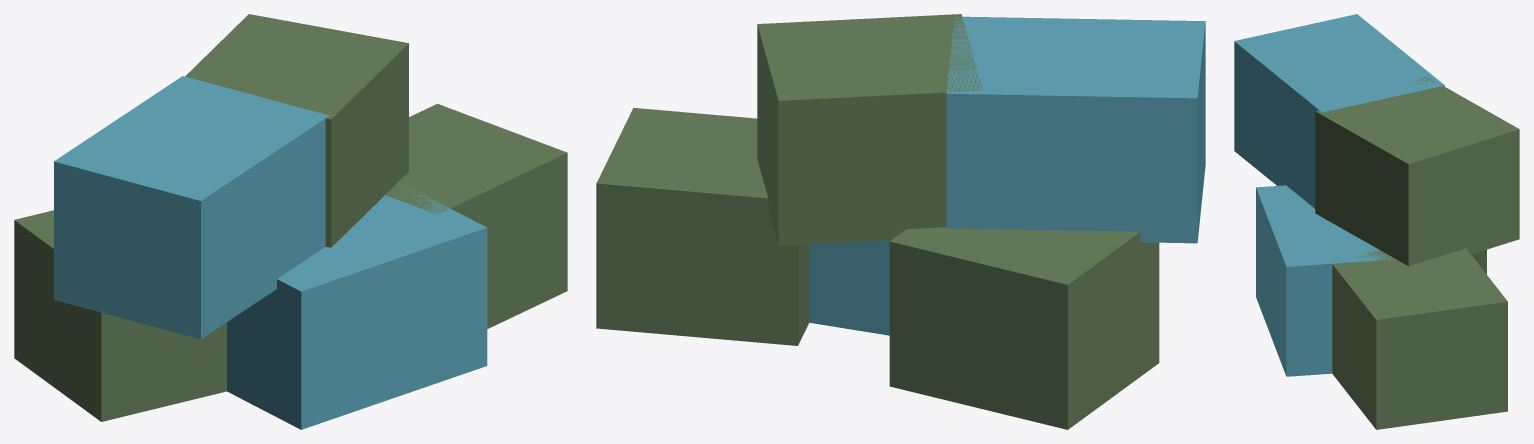
File: story-prop.glb
3 renders of one model, left to right at view 1: azimuth 30°, elevation 25°; view 2: azimuth 150°, elevation 25°; view 3: azimuth 270°, elevation 25°, orthographic. The views are drawn at different scales.
Visible parts, largest first — view 1: crate_3, crate_1, crate_4, crate_2, crate_0; view 2: crate_3, crate_0, crate_4, crate_2, crate_1; view 3: crate_4, crate_2, crate_3, crate_1.
Part boxes in pixels (x1,y1,x2,y2): crate_3: (54, 76, 329, 339); crate_1: (227, 182, 487, 429); crate_4: (185, 14, 408, 247); crate_2: (385, 104, 567, 328); crate_0: (14, 210, 226, 421); crate_3: (946, 16, 1205, 243); crate_0: (889, 227, 1159, 429); crate_4: (757, 14, 982, 245); crate_2: (596, 107, 809, 345); crate_1: (809, 240, 890, 335); crate_4: (1315, 77, 1519, 266); crate_2: (1332, 248, 1507, 429); crate_3: (1234, 14, 1444, 208); crate_1: (1256, 185, 1395, 376).
Size of what is drawn, in the model's own units: 2.79 by 1.35 by 1.65.
